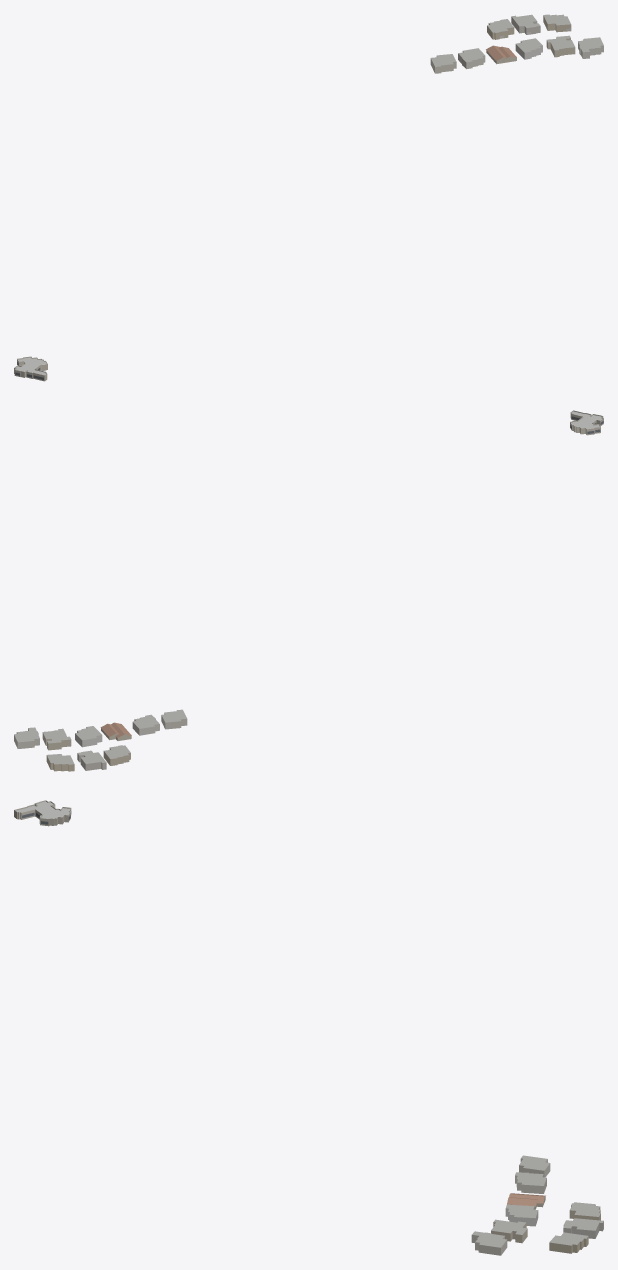
The model's file is buildings_r5_c1.glb.
3 renders of one model, top to bottom at view 1: azimuth 30°, elevation 25°; view 2: azimuth 210°, elevation 25°; view 3: azimuth 270°, elevation 25°, orthographic. The views are drawn at different scales.
Visible parts, largest first — view 1: buildings_r5_c1; view 2: buildings_r5_c1; view 3: buildings_r5_c1.
Boxes of the visible parts, x1=… form: buildings_r5_c1: x1=14, y1=14, x2=603, y2=381; buildings_r5_c1: x1=14, y1=410, x2=603, y2=771; buildings_r5_c1: x1=14, y1=800, x2=603, y2=1255.
Bounding box in the file's own units: 928 × 12.11 × 513.
